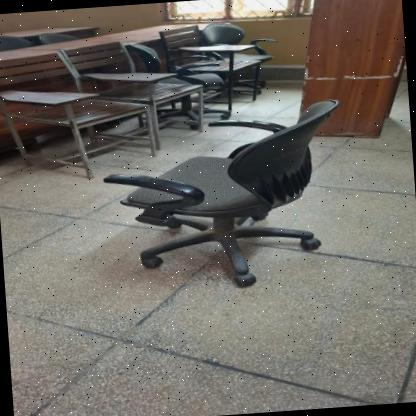chair: (110, 95, 362, 306), (0, 29, 134, 179)
